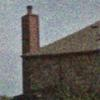chimneys: (22, 5, 39, 54)
